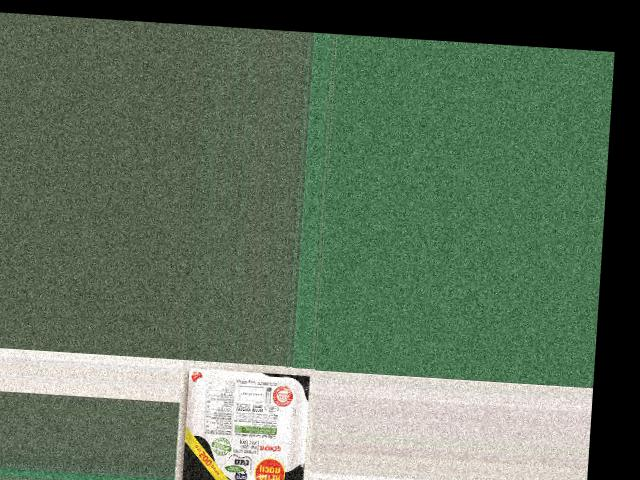cheese: (175, 371, 311, 480)
